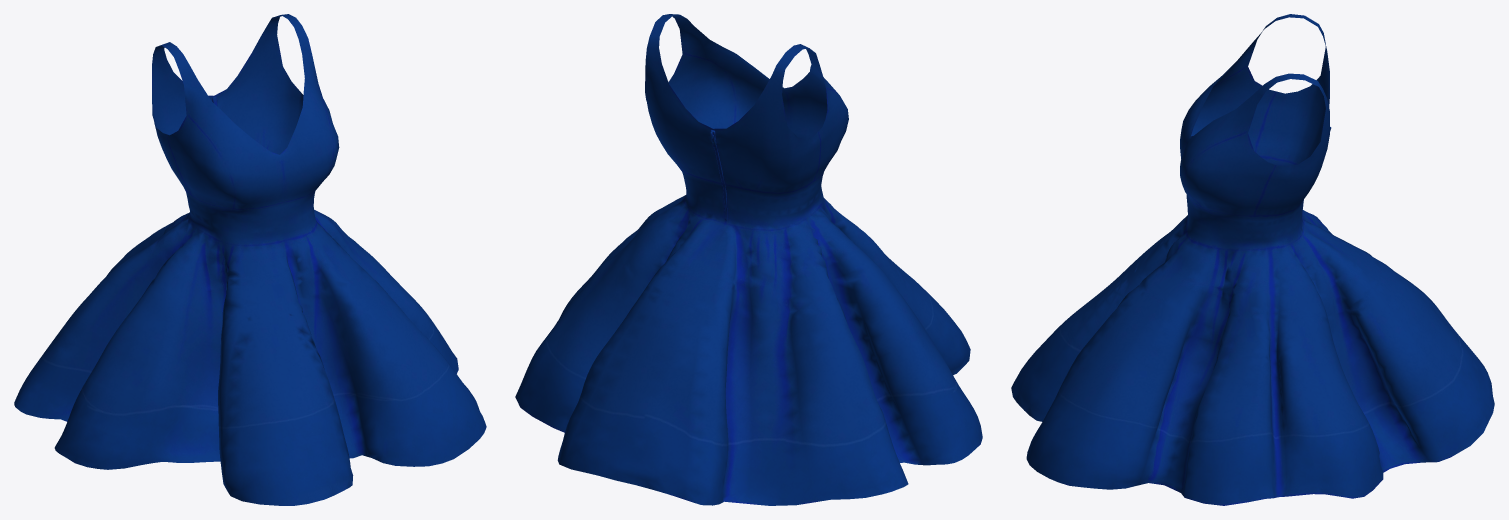
File: dress.glb
3 views of the same model, side by side, from view 1: azimuth 30°, elevation 25°; view 2: azimuth 150°, elevation 25°; view 3: azimuth 270°, elevation 25° (orthographic). The views are drawn at different scales.
Parts seen in each view (by area): view 1: defaultMaterial_lambert_M_0; view 2: defaultMaterial_lambert_M_0; view 3: defaultMaterial_lambert_M_0.
Part boxes in pixels (<box>): defaultMaterial_lambert_M_0: <box>14,14,486,505</box>; defaultMaterial_lambert_M_0: <box>515,14,982,505</box>; defaultMaterial_lambert_M_0: <box>1011,14,1494,505</box>.
Bounding box in the file's own units: 1.92 × 1.73 × 2.
Materials: 1 (1 with a texture image).
